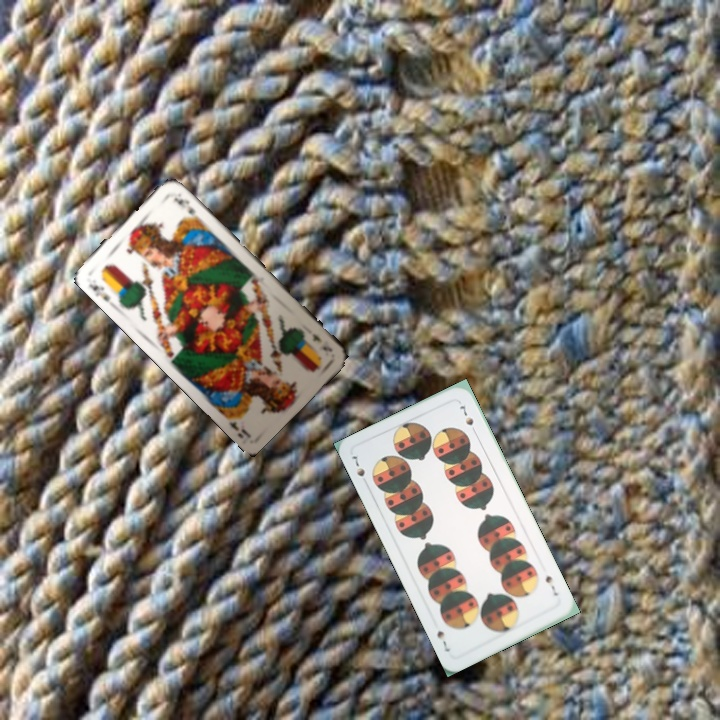EK: (84, 279, 113, 305), (308, 329, 335, 355)
S7: (348, 452, 371, 489), (541, 571, 561, 598)
